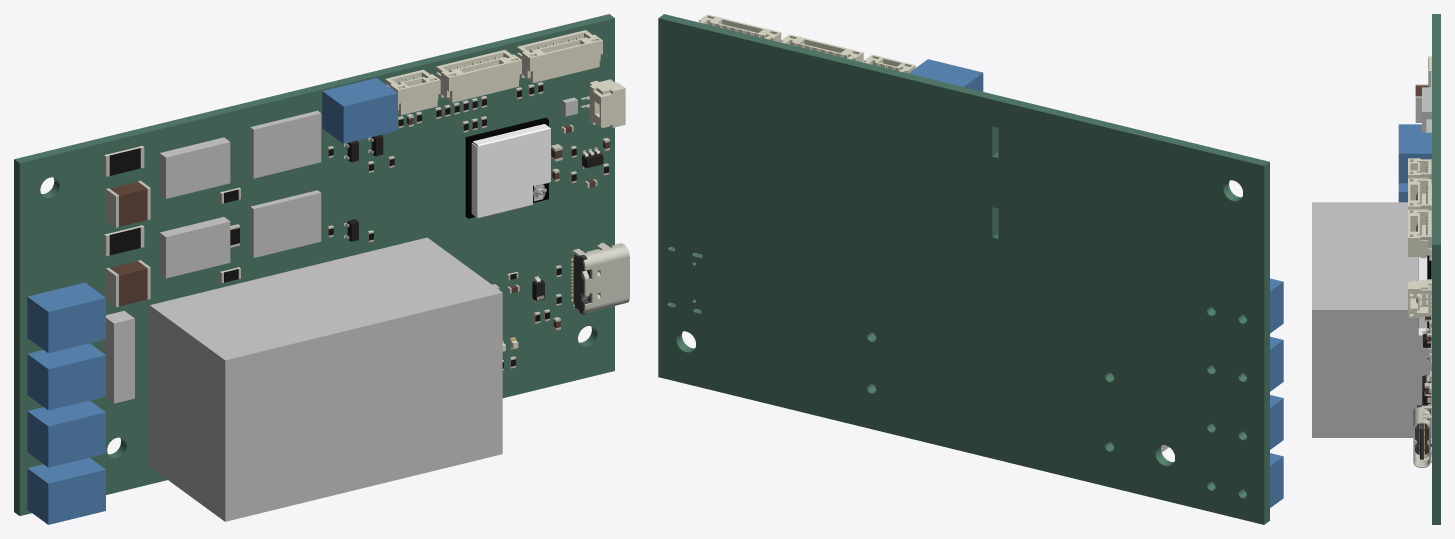
File: board.glb
3 renders of one model, left to right at view 1: azimuth 30°, elevation 25°; view 2: azimuth 150°, elevation 25°; view 3: azimuth 270°, elevation 25°, orthographic. The views are drawn at different scales.
Visible parts, largest first — view 1: =>[0:1:1:34], PS1, =>[0:1:1:23]_404d9a, J12, J15, J14, J13, J2, U9, U8, Q5, Q6 (+10 smaller); view 2: =>[0:1:1:34], J2, =>[0:1:1:31]_a3a40f, =>[0:1:1:31]_1_9947b5; view 3: PS1, =>[0:1:1:34], J2, =>[0:1:1:31]_1_9947b5, =>[0:1:1:33]_69d7a7, =>[0:1:1:25]_32393d, =>[0:1:1:31]_a3a40f, =>[0:1:1:25]_2bc57f, =>[0:1:1:19]_8270a2, Q5, =>[0:1:1:23]_404d9a, =>[0:1:1:27]_91122c (+3 smaller).
Boxes of the visible parts, bbox=[...] form: =>[0:1:1:34]: bbox=[14, 14, 614, 515]; PS1: bbox=[149, 237, 502, 521]; =>[0:1:1:23]_404d9a: bbox=[471, 124, 550, 218]; J12: bbox=[27, 282, 105, 353]; J15: bbox=[27, 457, 105, 524]; J14: bbox=[27, 400, 105, 467]; J13: bbox=[27, 343, 105, 410]; J2: bbox=[322, 78, 397, 143]; U9: bbox=[250, 190, 321, 257]; U8: bbox=[250, 110, 321, 178]; Q5: bbox=[159, 137, 230, 198]; Q6: bbox=[159, 217, 230, 278]; =>[0:1:1:34]: bbox=[658, 14, 1269, 524]; J2: bbox=[908, 59, 983, 91]; =>[0:1:1:31]_a3a40f: bbox=[781, 34, 863, 62]; =>[0:1:1:31]_1_9947b5: bbox=[699, 14, 781, 42]; PS1: bbox=[1312, 202, 1431, 437]; =>[0:1:1:34]: bbox=[1432, 14, 1440, 524]; J2: bbox=[1398, 132, 1431, 183]; =>[0:1:1:31]_1_9947b5: bbox=[1408, 209, 1431, 258]; =>[0:1:1:33]_69d7a7: bbox=[1408, 279, 1431, 317]; =>[0:1:1:25]_32393d: bbox=[1413, 405, 1431, 467]; =>[0:1:1:31]_a3a40f: bbox=[1408, 178, 1431, 210]; =>[0:1:1:25]_2bc57f: bbox=[1415, 405, 1431, 459]; =>[0:1:1:19]_8270a2: bbox=[1408, 158, 1431, 178]; Q5: bbox=[1422, 87, 1431, 132]; =>[0:1:1:23]_404d9a: bbox=[1418, 256, 1427, 335]; =>[0:1:1:27]_91122c: bbox=[1415, 84, 1428, 122].
Bounding box in the file's own units: 98.49 × 55.5 × 23.1.
